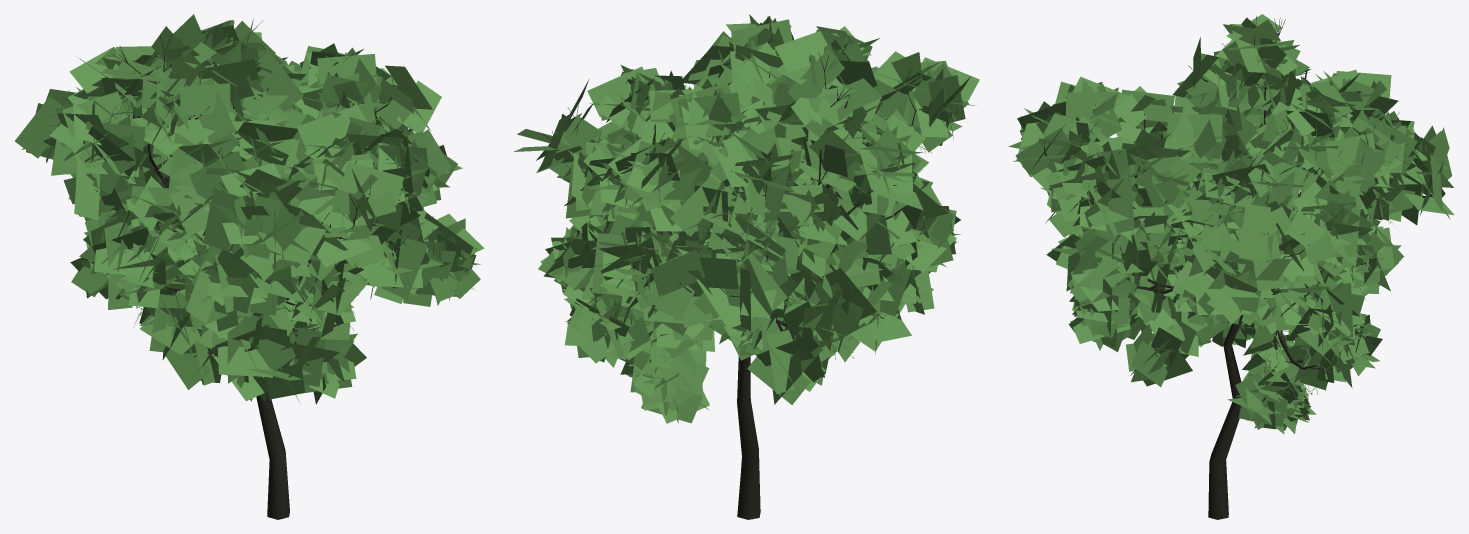
File: meadow-oak.glb
The picture shows the model from 3 angles, left to right: view 1: azimuth 30°, elevation 25°; view 2: azimuth 150°, elevation 25°; view 3: azimuth 270°, elevation 25°; orthographic projection. The views are drawn at different scales.
Parts seen in each view (by area): view 1: oaktree2; view 2: oaktree2; view 3: oaktree2.
Boxes of the visible parts, x1,y1,x2,y2 form: oaktree2: (14,14,484,519); oaktree2: (513,14,979,519); oaktree2: (1008,14,1454,519).
Size of the model in its own units: 4.12 by 4.9 by 4.33.
Materials: 3 (3 with a texture image).
